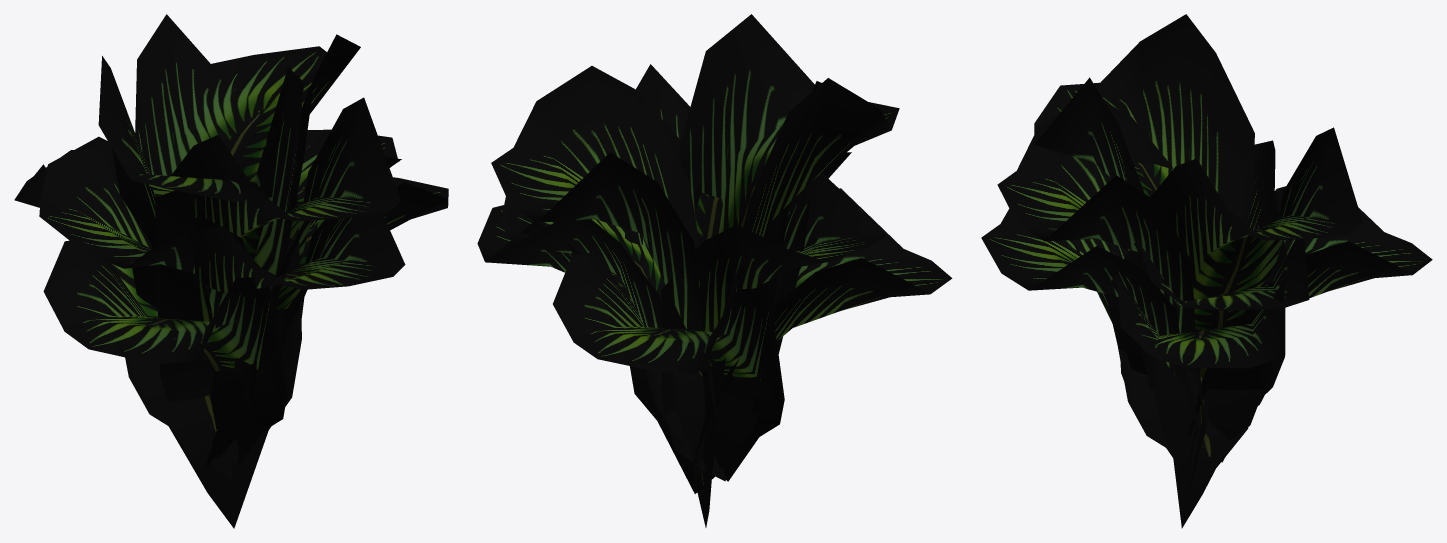
File: MajestPalm_001.fbx
3 views of the same model, side by side, from view 1: azimuth 30°, elevation 25°; view 2: azimuth 150°, elevation 25°; view 3: azimuth 270°, elevation 25° (orthographic). The views are drawn at different scales.
Parts seen in each view (by area): view 1: MajestyPalm_001; view 2: MajestyPalm_001; view 3: MajestyPalm_001.
Part boxes in pixels (<box>): MajestyPalm_001: <box>14,14,448,528</box>; MajestyPalm_001: <box>477,14,952,527</box>; MajestyPalm_001: <box>981,14,1432,528</box>.
Size of the model in its own units: 13.16 by 15.02 by 13.44.
Materials: 1 (1 with a texture image).
